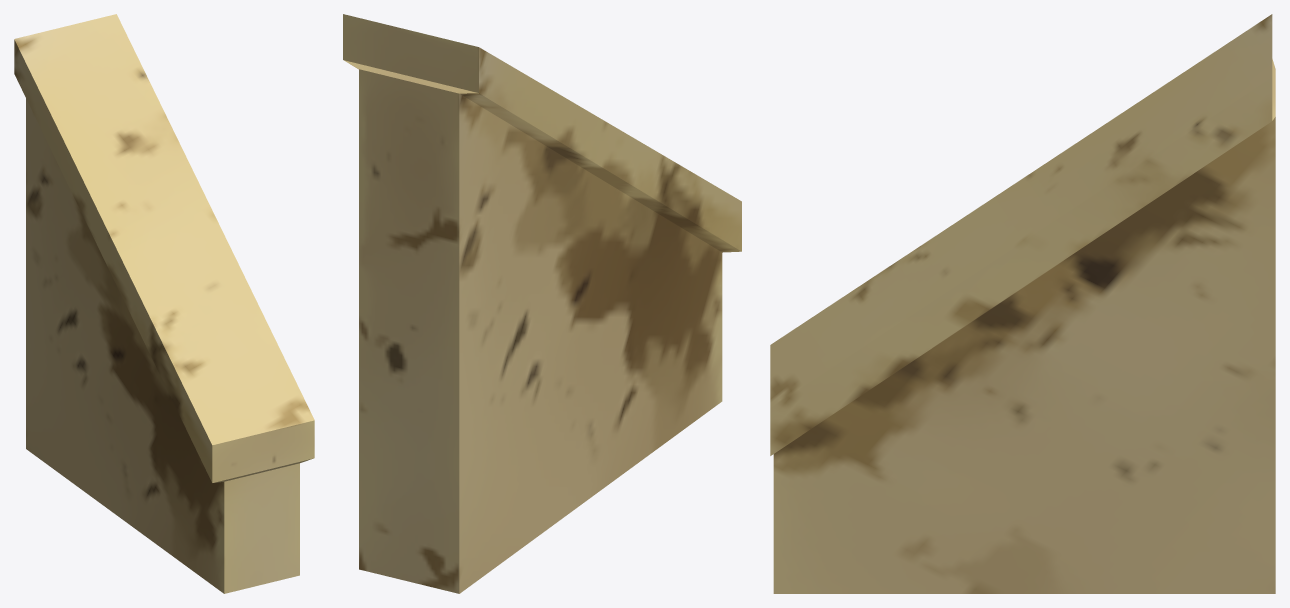
Rendered from Rome_Village_Props_27.FBX.
3 renders of one model, left to right at view 1: azimuth 30°, elevation 25°; view 2: azimuth 150°, elevation 25°; view 3: azimuth 270°, elevation 25°, orthographic. The views are drawn at different scales.
Visible parts, largest first — view 1: Rome_Village_Props_27; view 2: Rome_Village_Props_27; view 3: Rome_Village_Props_27.
Part boxes in pixels (<box>): Rome_Village_Props_27: <box>14,14,314,593</box>; Rome_Village_Props_27: <box>343,14,741,593</box>; Rome_Village_Props_27: <box>770,14,1275,593</box>.
Bounding box in the file's own units: 33.46 × 129 × 113.
